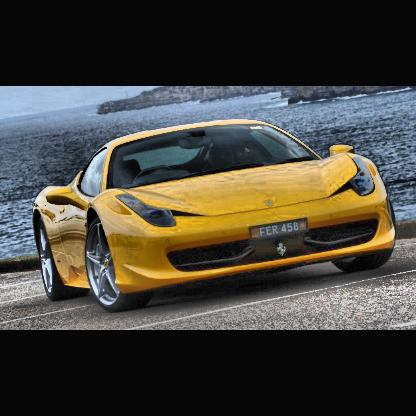Ferrari 458 Italia Coupe 2012: (33, 116, 397, 311)
